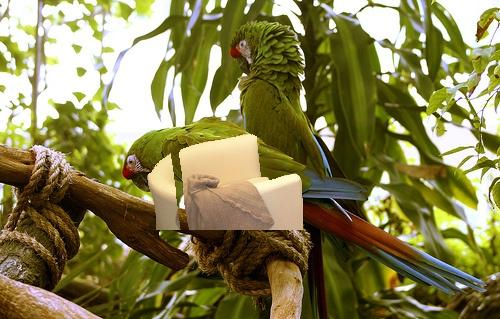tampered: (148, 135, 303, 230)
